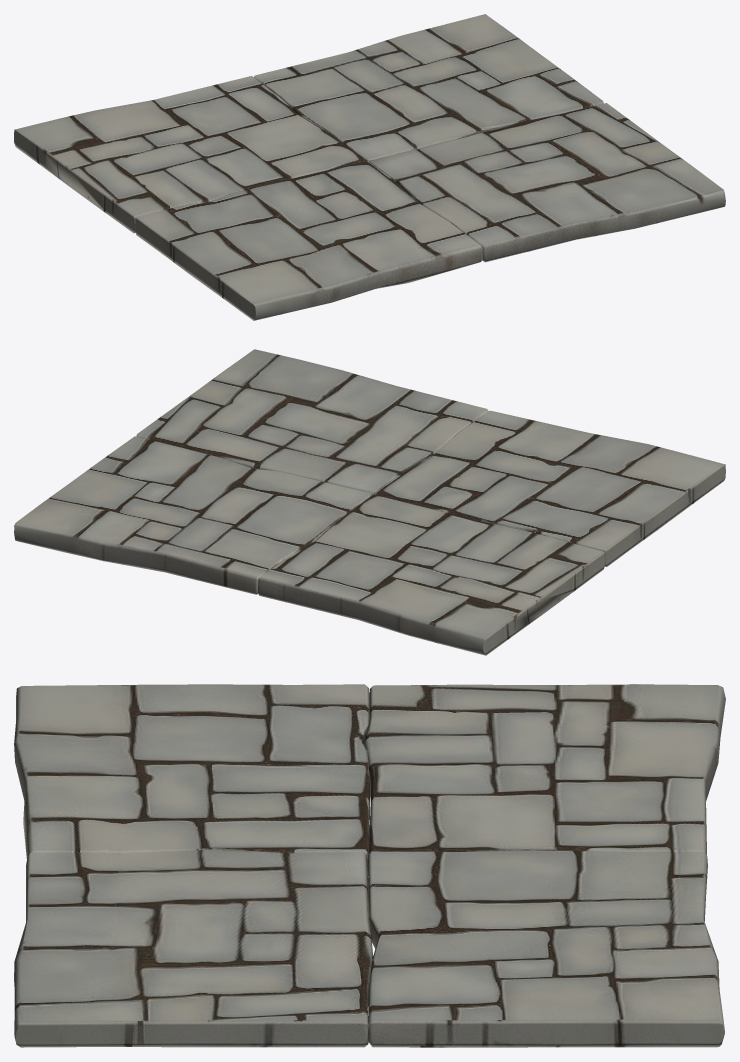
The model's file is castle-flagstone-v2.glb.
The picture shows the model from 3 angles, top to bottom: view 1: azimuth 30°, elevation 25°; view 2: azimuth 150°, elevation 25°; view 3: azimuth 270°, elevation 25°; orthographic projection. The views are drawn at different scales.
Visible parts, largest first — view 1: castle-flagstone-v2; view 2: castle-flagstone-v2; view 3: castle-flagstone-v2.
Part boxes in pixels (x1,y1,x2,y2): castle-flagstone-v2: [14, 14, 725, 320]; castle-flagstone-v2: [14, 349, 725, 655]; castle-flagstone-v2: [14, 684, 725, 1047].
Bounding box in the file's own units: 1 × 0.0401 × 0.8955.
Materials: 1 (1 with a texture image).
